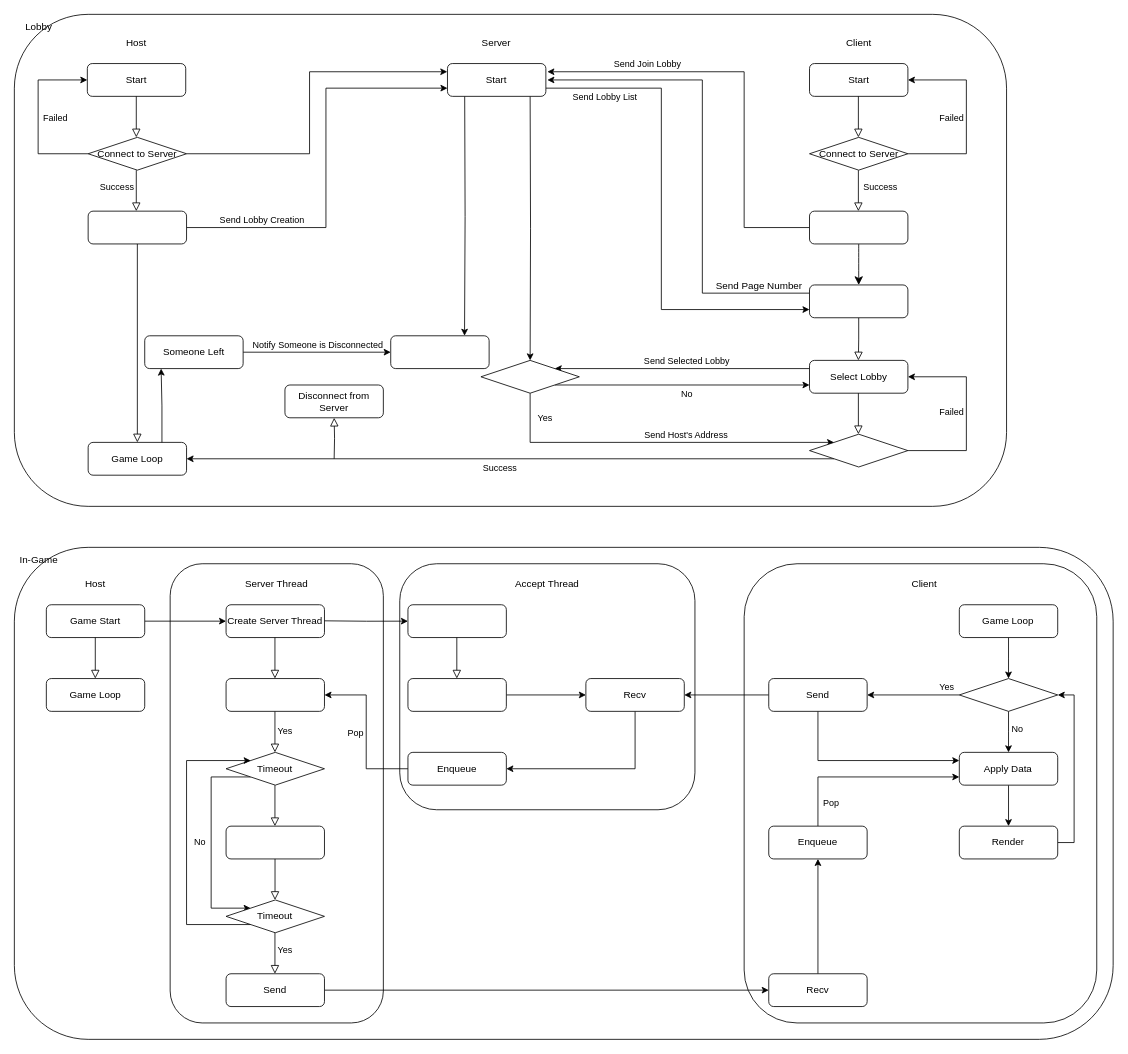
The diagram is 1128 pixels wide and 1054 high, and some of its shapes have lost their labels. The shapes that lost their labels are listed below. From the top down, each one's box as (x1, y1, x2, y2) in pixels, then its label:
(87, 210, 187, 244): Create Lobby
(809, 210, 908, 244): Join Lobby
(809, 284, 908, 318): Select Page
(390, 335, 489, 369): Update Lobby
(480, 360, 579, 393): Can Join?
(809, 433, 908, 467): Connect to Host
(407, 604, 506, 638): Create Accept Thread
(225, 678, 324, 711): Apply Input
(407, 678, 506, 711): Accept
(958, 678, 1058, 711): Input
(225, 825, 324, 859): Game Logic
